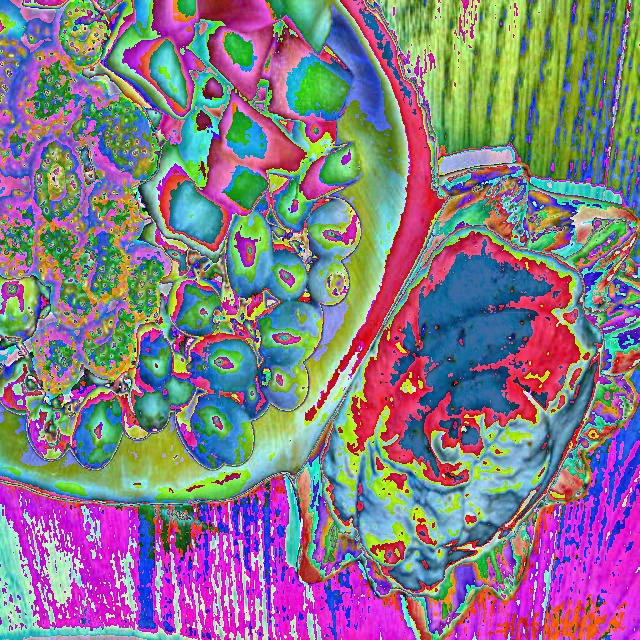background: (0, 0, 363, 474), (287, 227, 606, 599)
